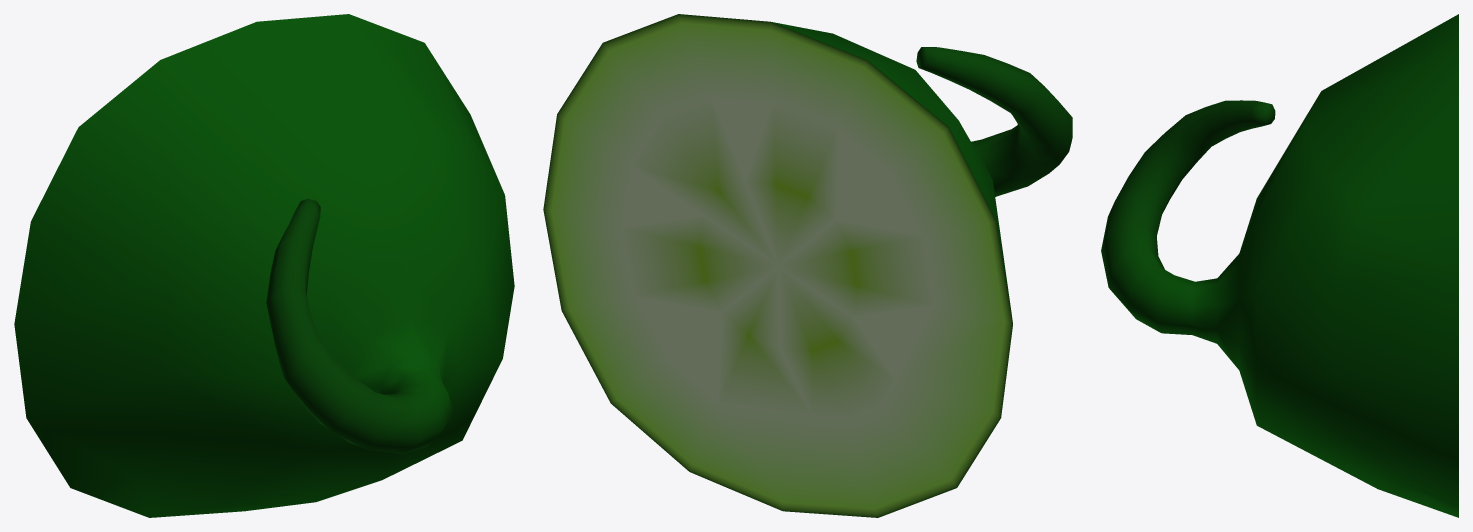
The model's file is Cucumber_Slice_01.fbx.
3 renders of one model, left to right at view 1: azimuth 30°, elevation 25°; view 2: azimuth 150°, elevation 25°; view 3: azimuth 270°, elevation 25°, orthographic. The views are drawn at different scales.
Parts seen in each view (by area): view 1: Cucumber_Slice_01; view 2: Cucumber_Slice_01; view 3: Cucumber_Slice_01.
Part boxes in pixels (x1=…): Cucumber_Slice_01: x1=14, y1=14, x2=514, y2=517; Cucumber_Slice_01: x1=543, y1=14, x2=1072, y2=517; Cucumber_Slice_01: x1=1101, y1=14, x2=1458, y2=517.
Size of the model in its own units: 3.57 by 3.53 by 2.53.
